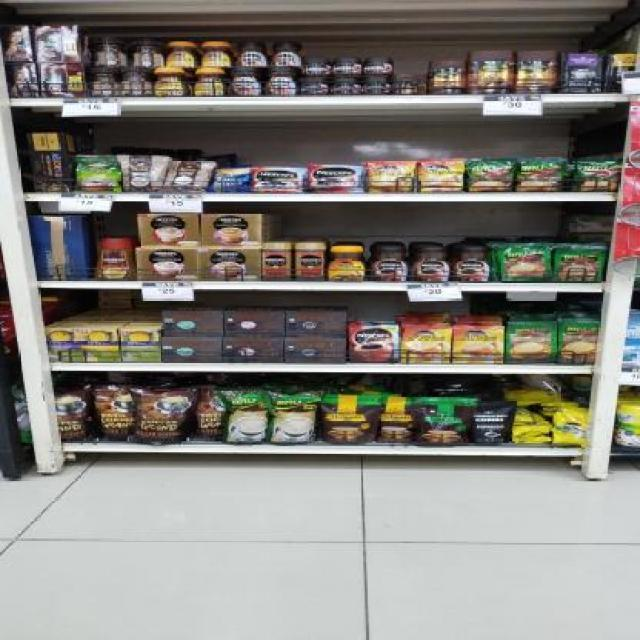Coffee: (402, 326, 453, 364), (454, 326, 504, 364), (350, 326, 398, 363), (368, 246, 409, 282), (418, 161, 464, 193), (368, 162, 414, 193), (412, 246, 451, 282), (327, 246, 365, 282), (454, 247, 492, 283), (310, 165, 357, 193), (254, 168, 301, 194), (153, 68, 186, 97), (265, 67, 297, 96), (229, 67, 261, 95), (193, 68, 225, 96), (165, 41, 197, 67), (201, 41, 233, 67), (236, 41, 267, 67), (271, 41, 300, 67), (363, 57, 393, 76), (299, 78, 330, 96), (302, 58, 330, 77), (333, 58, 361, 76), (362, 77, 390, 95), (332, 78, 360, 96)
